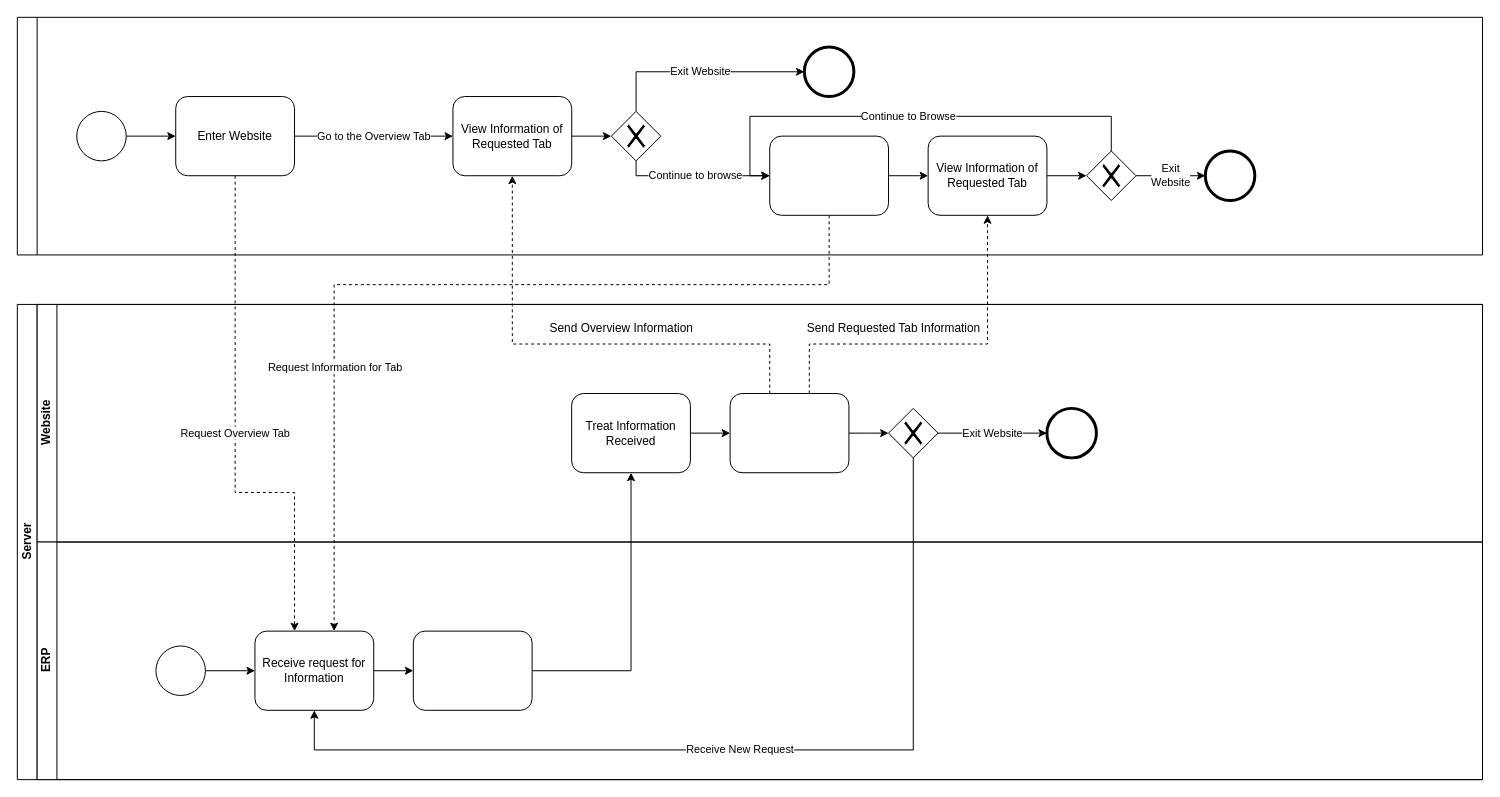
The diagram is 1500 pixels wide and 797 high, and some of its shapes have lost their labels. The shapes that lost their labels are listed below. From the top down, each one's box as (x1, y1, x2, y2) in pixels, then its label:
(16, 16, 1483, 255): Manager
(769, 135, 889, 215): Go Information Tab
(729, 393, 849, 473): Send Information Requested
(412, 630, 532, 710): Gather Overview Information
